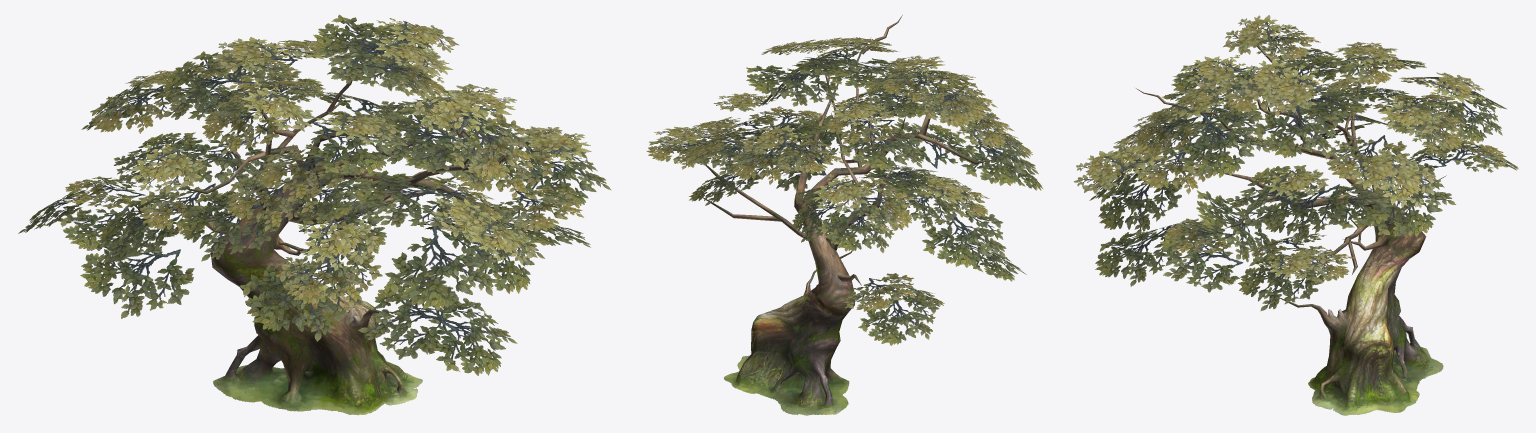
The model's file is m_zhiwu_03.FBX.
The picture shows the model from 3 angles, left to right: view 1: azimuth 30°, elevation 25°; view 2: azimuth 150°, elevation 25°; view 3: azimuth 270°, elevation 25°; orthographic projection. The views are drawn at different scales.
Parts seen in each view (by area): view 1: m_zhiwu_03; view 2: m_zhiwu_03; view 3: m_zhiwu_03.
Part boxes in pixels (box(x1,y1,x2,y2)): m_zhiwu_03: box(18, 14, 611, 415); m_zhiwu_03: box(646, 15, 1042, 415); m_zhiwu_03: box(1074, 15, 1518, 415).
Bounding box in the file's own units: 425 × 326 × 410.
